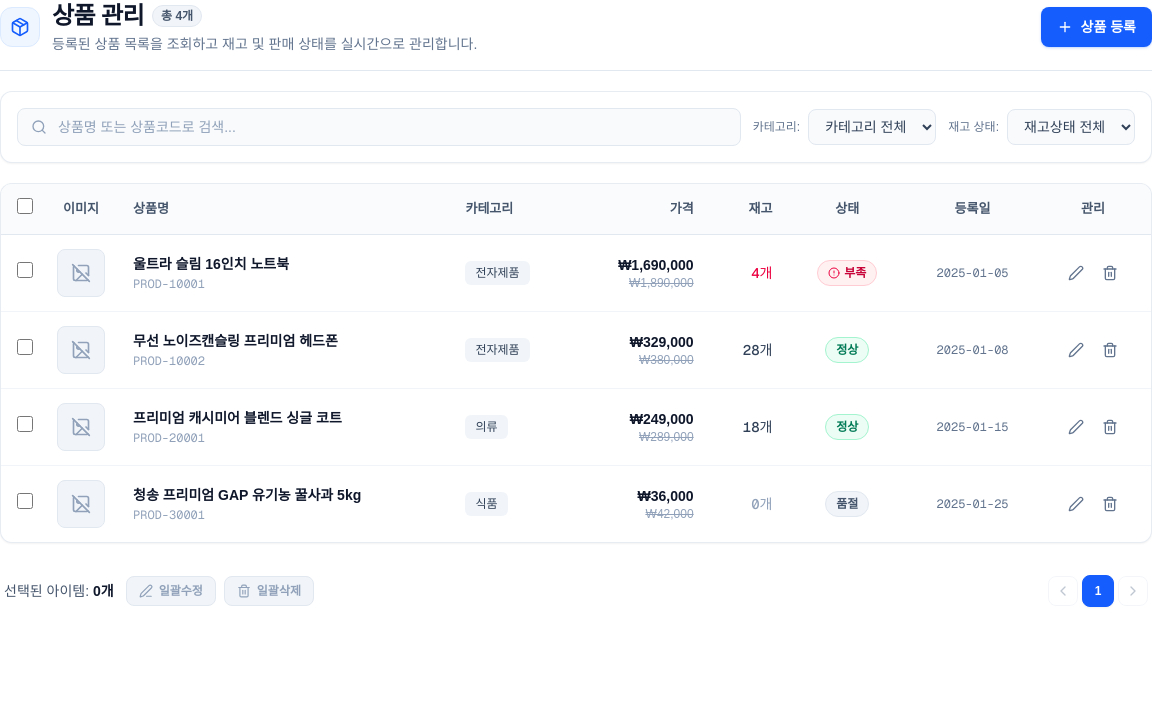
Test case: ProductView Component (Integration/Presentation Test) › 모달에서 취소 버튼 및 닫기 버튼 클릭 시 모달이 닫힌다
This screenshot has width=1152, height=720.
What coordinates should you click on to do the following:
click the button "상품 등록"
I would click on:
 (1096, 27)
Its box is [1041,7,1151,47].
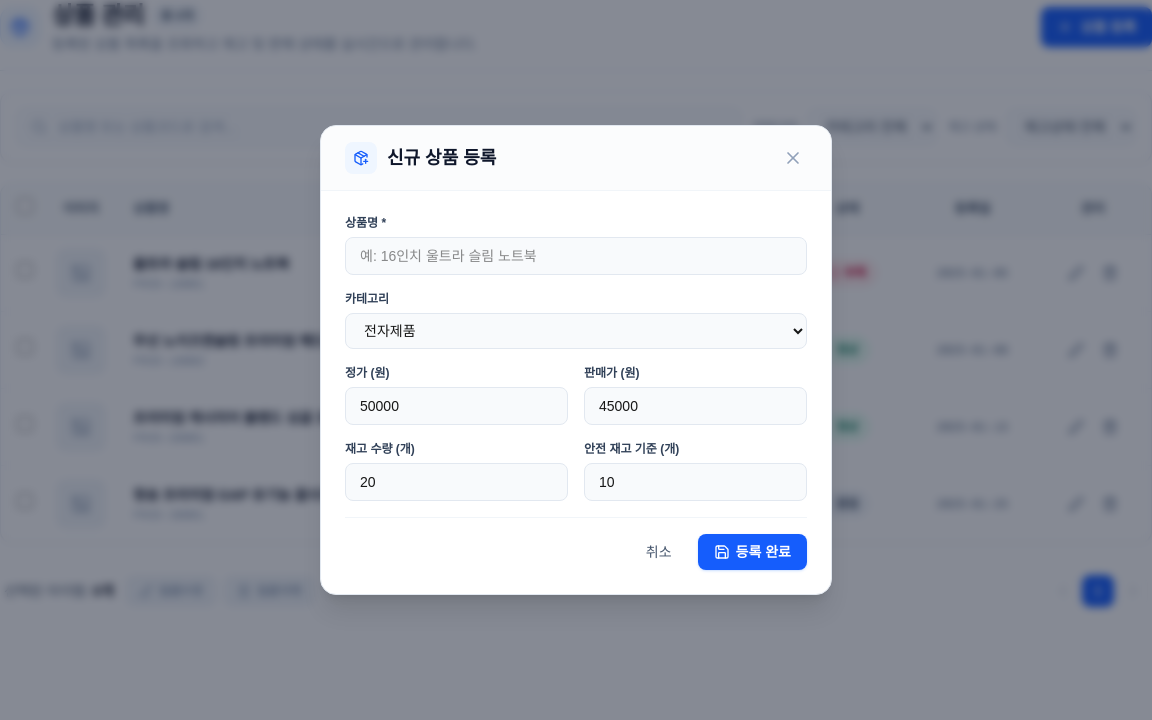
Now the heading "신규 상품 등록" is shown, box [387,144,496,172]
What coordinates should you click on to do the following:
click the button "취소"
I would click on:
 (659, 552)
Its box is [630,534,688,570].
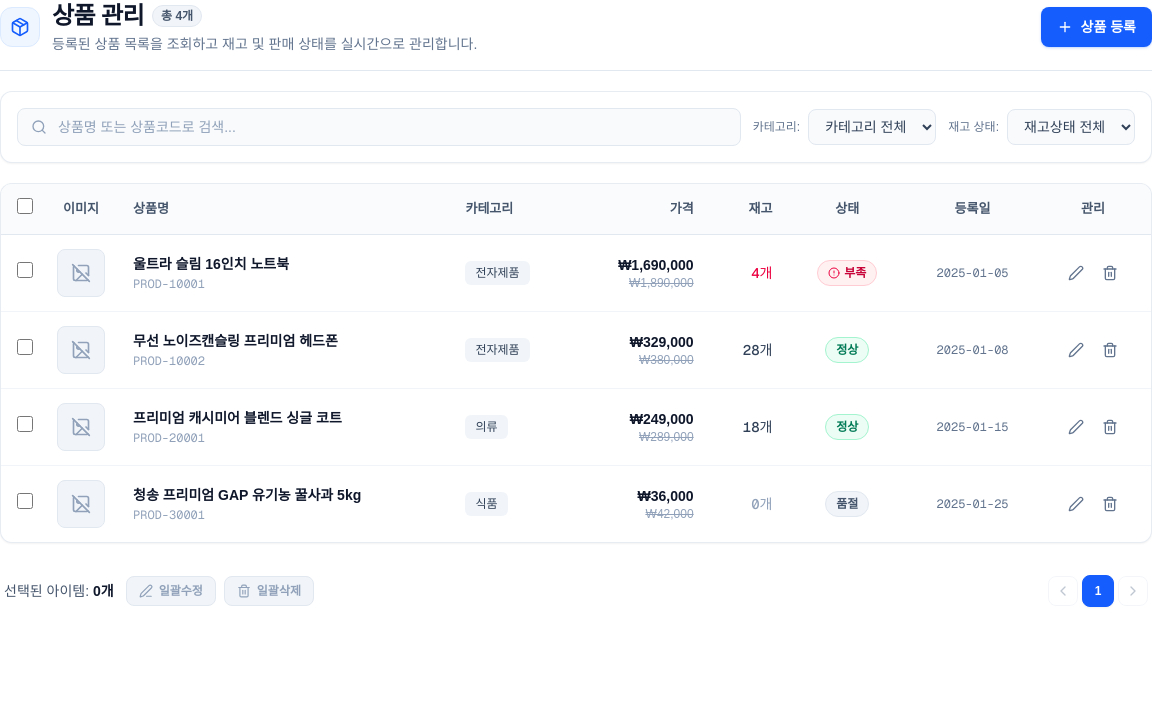
Now the heading "신규 상품 등록" is gone
